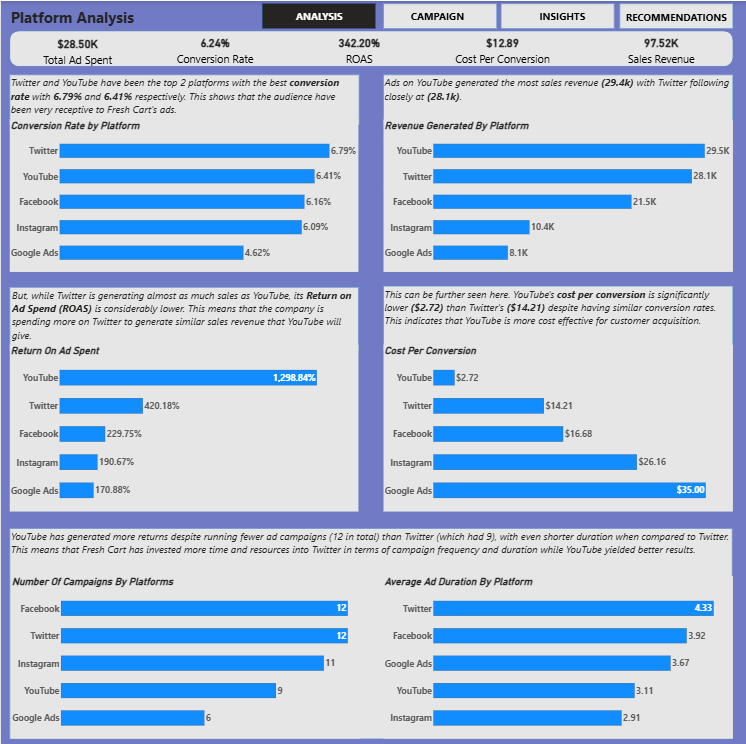

Layout of this report page (visuals, bound fields, positions):
{"tool":"powerbi","page":{"name":"Analysis","canvas":[4000,4000],"ordinal":1},"visuals":[{"type":"shape","box":[1400.6,14.9,607.2,134.1],"z":0},{"type":"shape","box":[2048.8,398.6,1873.7,268.2],"z":1000},{"type":"shape","box":[44.7,398.6,1873.7,268.2],"z":2000},{"type":"shape","box":[2048.8,1531,1873.7,342.7],"z":3000},{"type":"shape","box":[48.4,1534.7,1870,339],"z":4000},{"type":"shape","box":[48.4,2827.3,3874.1,1128.7],"z":5000},{"type":"shape","box":[44.7,163.9,3877.8,190],"z":6000},{"type":"textbox","box":[48.4,29.8,1274,134.1],"z":7000},{"type":"card","title":"Total Ad Spent","fields":{"Values":["Sum(ad_campaign_data.Cost)"]},"box":[52.2,167.6,715.2,186.3],"z":8000},{"type":"card","title":"Total Ad Spent","fields":{"Values":["DAX Measures.Conversion Rate"]},"box":[767.4,163.9,767.4,190],"z":9000},{"type":"card","title":"Total Ad Spent","fields":{"Values":["DAX Measures.Cost Per Conversion"]},"box":[2305.8,163.9,767.4,190],"z":10000},{"type":"card","title":"Total Ad Spent","fields":{"Values":["DAX Measures.ROAS"]},"box":[1534.7,163.9,771.1,190],"z":11000},{"type":"card","title":"Total Ad Spent","fields":{"Values":["Sum(ad_campaign_data.ConversionValue)"]},"box":[3155.1,163.9,767.4,190],"z":12000},{"type":"barChart","fields":{"Category":["ad_campaign_data.Platform"],"Y":["DAX Measures.Conversion Rate"]},"box":[48.4,637,1870,815.8],"z":13000},{"type":"barChart","title":"Revenue Generated By Platform","fields":{"Category":["ad_campaign_data.Platform"],"Y":["Sum(ad_campaign_data.ConversionValue)"]},"box":[2048.8,637,1873.7,815.8],"z":14000},{"type":"barChart","title":"Return On Ad Spent","fields":{"Category":["ad_campaign_data.Platform"],"Y":["DAX Measures.ROAS"]},"box":[48.4,1843.9,1870,894],"z":15000},{"type":"barChart","title":"Cost Per Conversion","fields":{"Category":["ad_campaign_data.Platform"],"Y":["DAX Measures.Cost Per Conversion"]},"box":[2048.8,1843.9,1873.7,894],"z":16000},{"type":"barChart","title":"Number Of Campaigns By Platforms","fields":{"Category":["ad_campaign_data.Platform"],"Y":["CountNonNull(ad_campaign_data.CampaignID)"]},"box":[52.2,3084.4,1870,871.7],"z":17000},{"type":"barChart","title":"Average Ad Duration By Platform","fields":{"Category":["ad_campaign_data.Platform"],"Y":["Avg(ad_campaign_data.AdDurationWeeks)"]},"box":[2048.8,3084.4,1873.7,871.7],"z":18000},{"type":"textbox","box":[48.4,2827.3,3874.1,227.2],"z":19000},{"type":"textbox","box":[52.2,1534.7,1870,309.2],"z":20000},{"type":"textbox","box":[2048.8,1531,1873.7,342.7],"z":21000},{"type":"textbox","box":[48.4,398.6,1870,268.2],"z":22000},{"type":"textbox","box":[2048.8,398.6,1873.7,268.2],"z":23000},{"type":"textbox","box":[1560.8,41,290.6,96.9],"z":24000},{"type":"shape","box":[2048.8,14.9,607.2,134.1],"z":25000},{"type":"shape","box":[2682.1,11.2,607.2,134.1],"z":26000},{"type":"shape","box":[3315.3,14.9,607.2,134.1],"z":27000},{"type":"textbox","box":[2194.1,37.3,316.6,93.1],"z":28000},{"type":"textbox","box":[2879.5,37.3,275.7,82],"z":29000},{"type":"textbox","box":[3345.1,44.7,577.4,85.7],"z":30000}]}

Visuals, with their boxes in screenshot pixels (x1, y1, x2, y2), scaled from the page's 4000x4000 canvas onto the 746x744 screenshot:
shape: [261,3,374,28]
shape: [382,74,732,124]
shape: [8,74,358,124]
shape: [382,285,732,349]
shape: [9,285,358,349]
shape: [9,526,732,736]
shape: [8,30,732,66]
textbox: [9,6,247,30]
"Total Ad Spent" card: [10,31,143,66]
"Total Ad Spent" card: [143,30,286,66]
"Total Ad Spent" card: [430,30,573,66]
"Total Ad Spent" card: [286,30,430,66]
"Total Ad Spent" card: [588,30,732,66]
barChart - ad_campaign_data.Platform x DAX Measures.Conversion Rate: [9,118,358,270]
"Revenue Generated By Platform" barChart: [382,118,732,270]
"Return On Ad Spent" barChart: [9,343,358,509]
"Cost Per Conversion" barChart: [382,343,732,509]
"Number Of Campaigns By Platforms" barChart: [10,574,358,736]
"Average Ad Duration By Platform" barChart: [382,574,732,736]
textbox: [9,526,732,568]
textbox: [10,285,358,343]
textbox: [382,285,732,349]
textbox: [9,74,358,124]
textbox: [382,74,732,124]
textbox: [291,8,345,26]
shape: [382,3,495,28]
shape: [500,2,613,27]
shape: [618,3,732,28]
textbox: [409,7,468,24]
textbox: [537,7,588,22]
textbox: [624,8,732,24]
